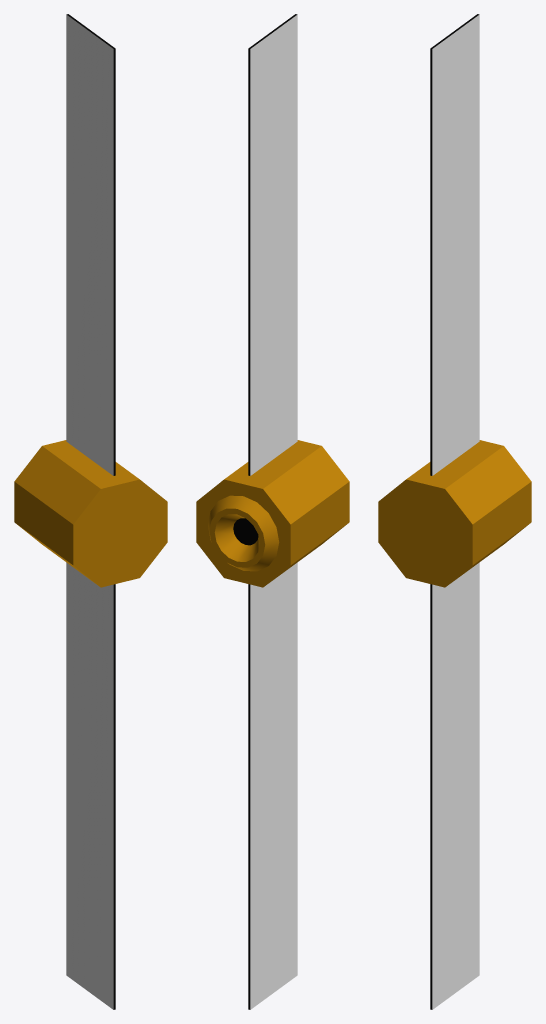
Rendered from IonCruiser.obj.
3 views of the same model, side by side, from view 1: azimuth 30°, elevation 25°; view 2: azimuth 150°, elevation 25°; view 3: azimuth 330°, elevation 25° (orthographic).
Bounding box in the file's own units: 1.85 × 18 × 2.21.
